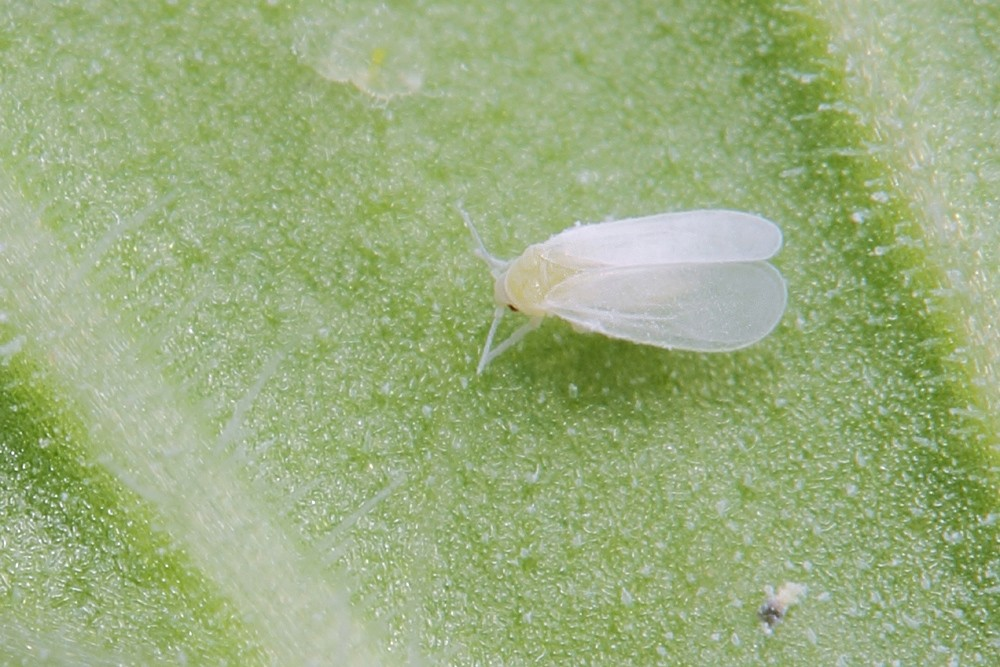Mosca Blanca: (441, 178, 796, 395)
